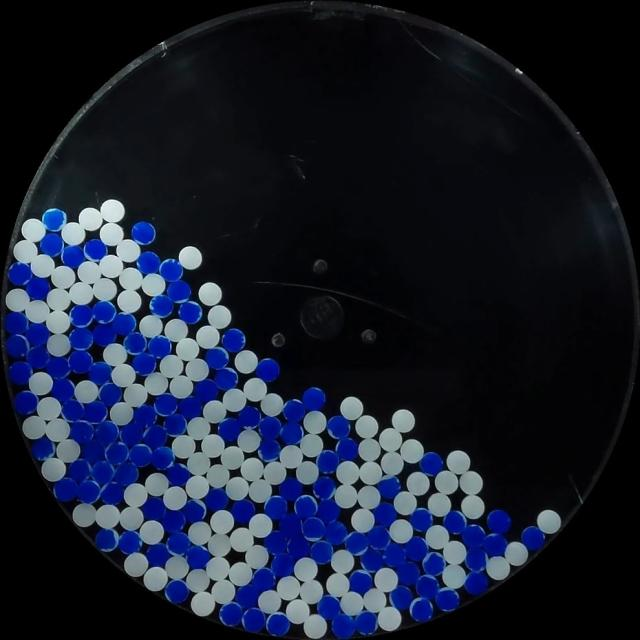pmmma-azul: (50, 377, 76, 403), (142, 424, 168, 450), (185, 544, 210, 570), (68, 349, 94, 374), (54, 476, 79, 502), (166, 531, 192, 556), (372, 501, 397, 527), (94, 420, 119, 446), (463, 570, 488, 596), (235, 582, 260, 608), (90, 460, 116, 485), (241, 607, 266, 632), (161, 507, 186, 532), (315, 498, 340, 523), (92, 322, 117, 347), (443, 509, 468, 534), (67, 458, 92, 483), (164, 579, 189, 604), (150, 445, 175, 470), (486, 509, 511, 534), (330, 612, 354, 638), (82, 399, 108, 423), (45, 355, 71, 379), (194, 378, 218, 404), (26, 322, 50, 348), (91, 300, 117, 324), (464, 546, 488, 572), (9, 360, 33, 386), (520, 526, 546, 550), (112, 311, 136, 336), (182, 498, 206, 523), (271, 552, 295, 577), (166, 462, 190, 487), (4, 311, 29, 335), (344, 530, 368, 555), (255, 358, 280, 382), (142, 496, 166, 521), (14, 390, 38, 415), (5, 334, 30, 358), (129, 443, 154, 467), (230, 498, 254, 523), (382, 542, 406, 567), (40, 232, 64, 257), (409, 596, 433, 621), (100, 481, 125, 505), (218, 417, 242, 442), (31, 436, 55, 461), (42, 208, 67, 232), (113, 460, 138, 484), (294, 494, 318, 519), (301, 386, 326, 410), (76, 479, 101, 503), (185, 544, 210, 568), (69, 327, 94, 351), (28, 345, 53, 369), (405, 535, 428, 561), (280, 514, 306, 537), (146, 542, 170, 566), (8, 262, 32, 286), (178, 395, 202, 419), (348, 570, 372, 594), (316, 450, 340, 474), (118, 530, 142, 554), (148, 335, 172, 359), (95, 528, 119, 552), (278, 477, 302, 501), (395, 560, 419, 584), (312, 476, 336, 500), (366, 526, 390, 550), (88, 360, 112, 384), (416, 574, 440, 598), (266, 612, 290, 636), (222, 328, 246, 352), (482, 532, 506, 556), (159, 258, 183, 282), (434, 588, 458, 612), (26, 276, 50, 300), (258, 416, 282, 440), (61, 244, 85, 268), (219, 602, 243, 626), (178, 300, 202, 324), (250, 567, 274, 591), (302, 516, 326, 540), (461, 524, 485, 548), (354, 610, 377, 635), (264, 495, 287, 520), (167, 280, 192, 303), (326, 520, 348, 546), (214, 367, 238, 390), (422, 552, 445, 576), (99, 382, 122, 406), (205, 346, 229, 369), (132, 352, 156, 375), (420, 451, 443, 475), (238, 405, 262, 428), (70, 420, 94, 443), (310, 540, 333, 564), (84, 239, 108, 262), (258, 415, 281, 439), (137, 251, 161, 274), (377, 475, 401, 498), (205, 488, 228, 512), (317, 596, 340, 620), (70, 304, 94, 327), (282, 398, 305, 422), (336, 436, 358, 461), (131, 222, 156, 244), (359, 550, 384, 572), (104, 444, 130, 465), (154, 393, 177, 416), (327, 415, 350, 438), (280, 421, 303, 444), (258, 438, 281, 461), (150, 294, 173, 317), (410, 507, 432, 531), (123, 332, 147, 354), (390, 585, 412, 609), (318, 594, 340, 618), (62, 398, 84, 422), (164, 413, 186, 436), (345, 532, 368, 554), (120, 422, 143, 444), (265, 532, 288, 554), (133, 405, 157, 426), (288, 538, 311, 559), (82, 440, 104, 460)
